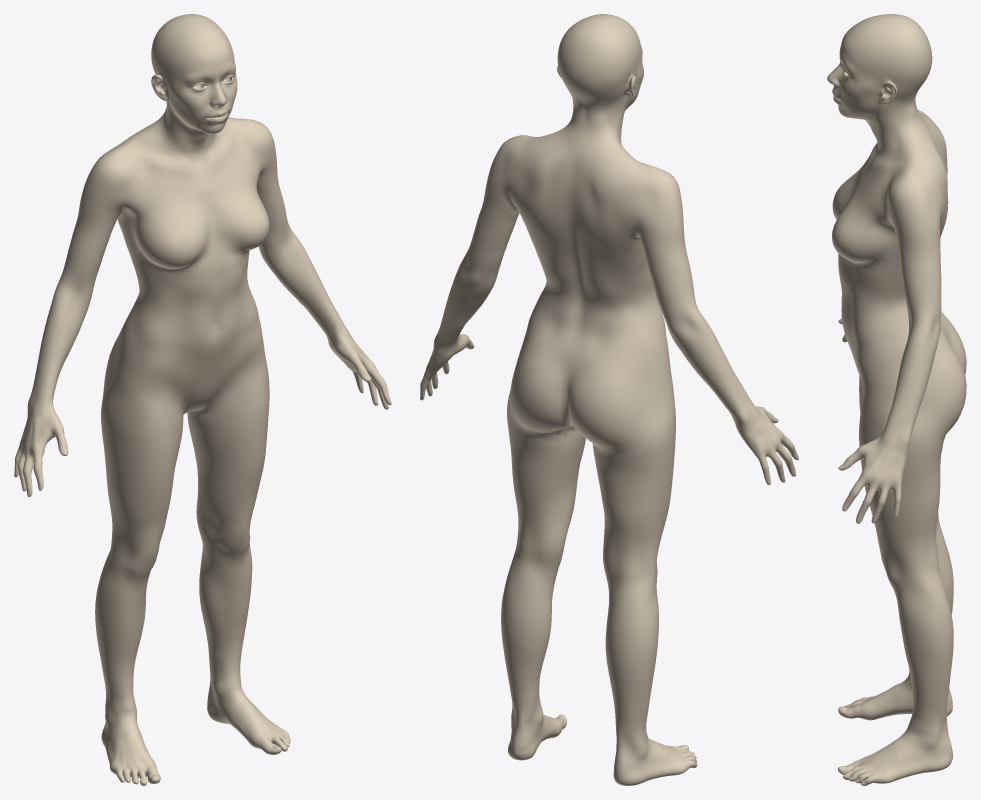
The model's file is body-female.glb.
3 renders of one model, left to right at view 1: azimuth 30°, elevation 25°; view 2: azimuth 150°, elevation 25°; view 3: azimuth 270°, elevation 25°, orthographic.
Parts seen in each view (by area): view 1: Mannequin female; view 2: Mannequin female; view 3: Mannequin female.
Boxes of the visible parts, bbox=[...] form: Mannequin female: bbox=[14, 14, 391, 785]; Mannequin female: bbox=[420, 14, 798, 785]; Mannequin female: bbox=[827, 14, 966, 785].
Size of the model in its own units: 0.8734 by 1.7 by 0.2944.
